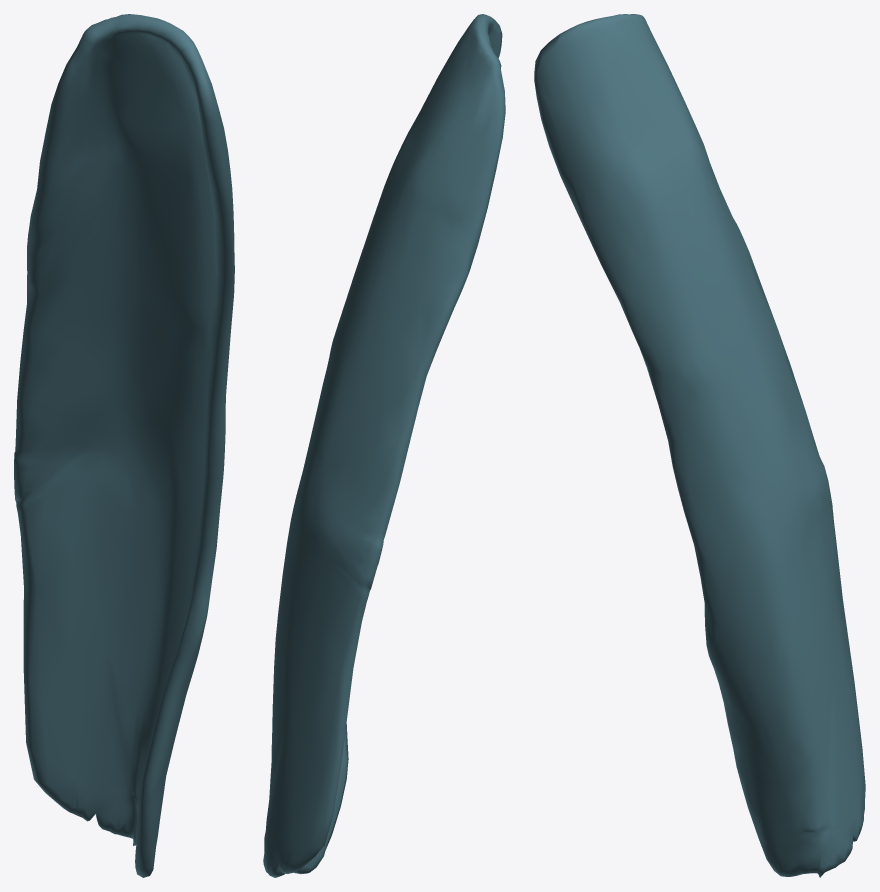
The model's file is Rhomboid_minor_muscle-Scapular_insertion.r_Generated_Mesh_From_.glb.
3 renders of one model, left to right at view 1: azimuth 30°, elevation 25°; view 2: azimuth 150°, elevation 25°; view 3: azimuth 270°, elevation 25°, orthographic. The views are drawn at different scales.
Parts seen in each view (by area): view 1: Rhomboid_minor_muscle-Scapular_insertion.r_Generated_Mesh_Fr; view 2: Rhomboid_minor_muscle-Scapular_insertion.r_Generated_Mesh_Fr; view 3: Rhomboid_minor_muscle-Scapular_insertion.r_Generated_Mesh_Fr.
Part boxes in pixels (left/top/right/bottom): Rhomboid_minor_muscle-Scapular_insertion.r_Generated_Mesh_Fr: left=14, top=14, right=234, bottom=877; Rhomboid_minor_muscle-Scapular_insertion.r_Generated_Mesh_Fr: left=263, top=14, right=505, bottom=877; Rhomboid_minor_muscle-Scapular_insertion.r_Generated_Mesh_Fr: left=534, top=14, right=865, bottom=877.
Size of the model in its own units: 0.00599 by 0.0276 by 0.0101.
